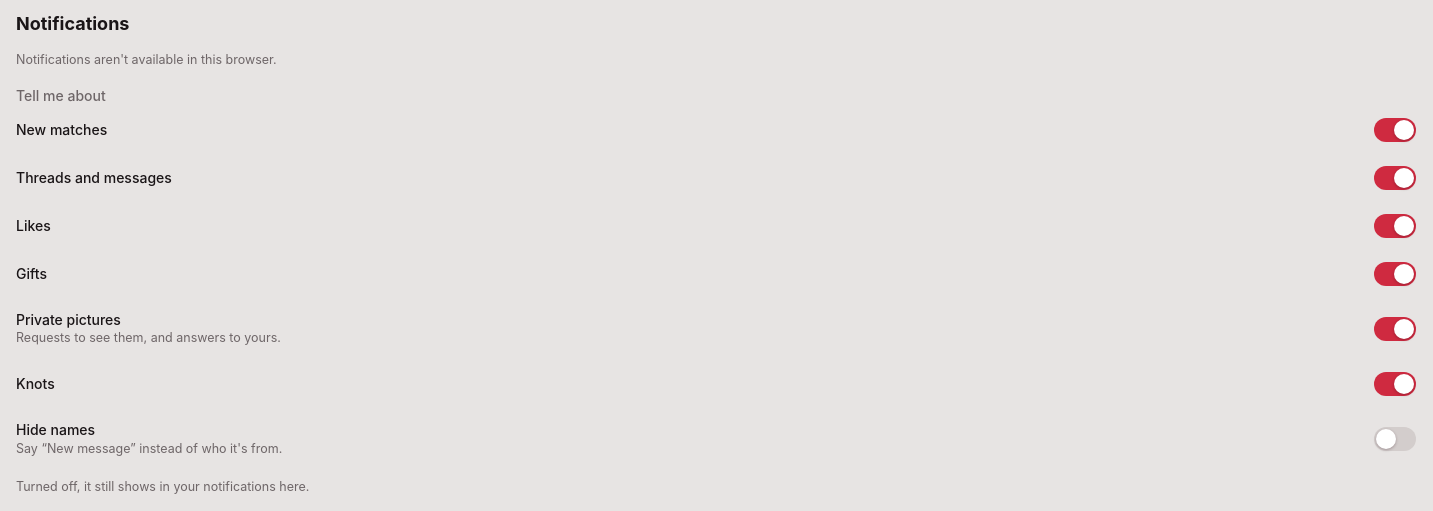
Test: notification settings (T-9.4) › says when a save fails
Click the switch labelled "Likes". click: (33, 225)
box: [16,202,1416,250]
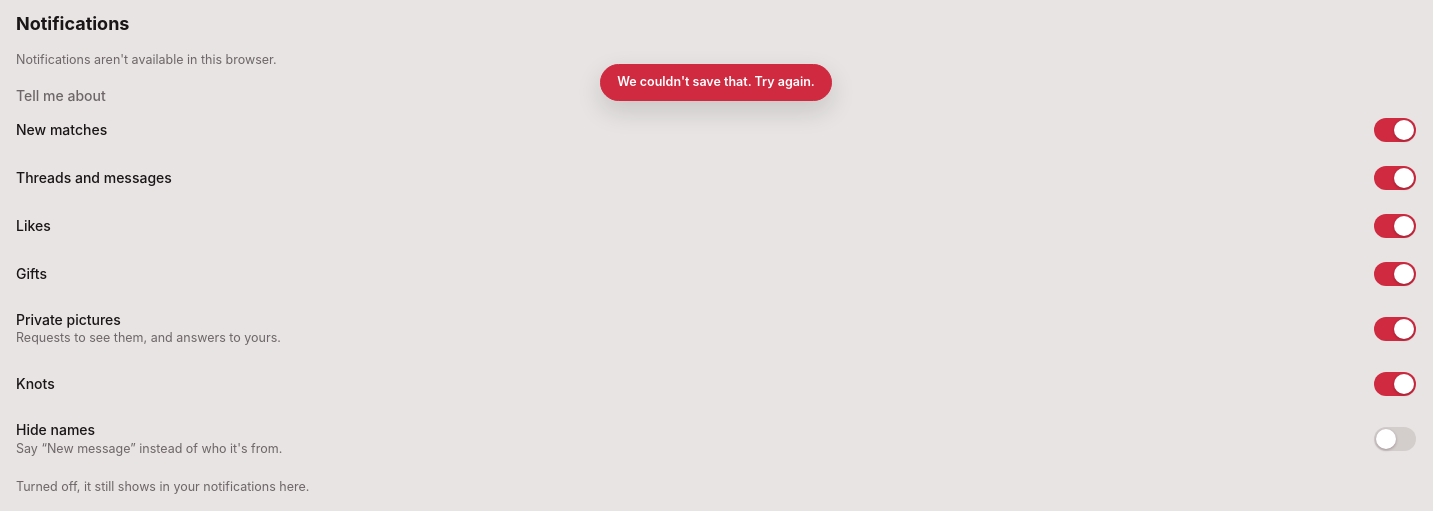
Expected: the text "We couldn't save that. Try again." is shown, [617,73,815,92]
